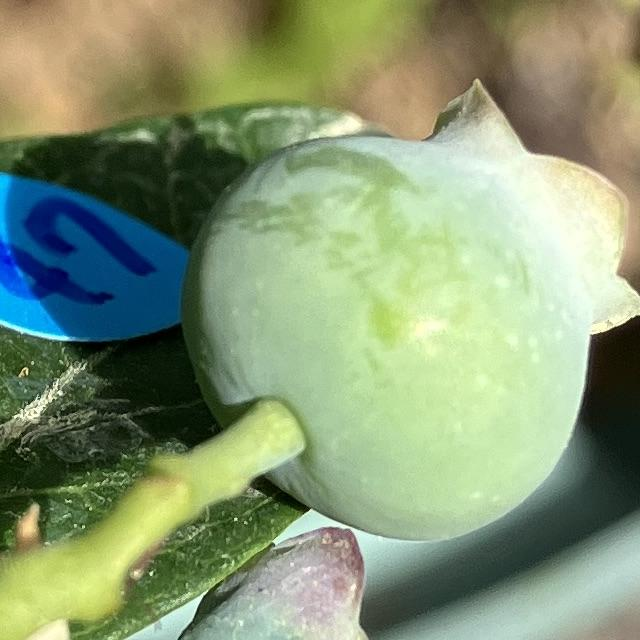Blueberries: (184, 69, 640, 547)
